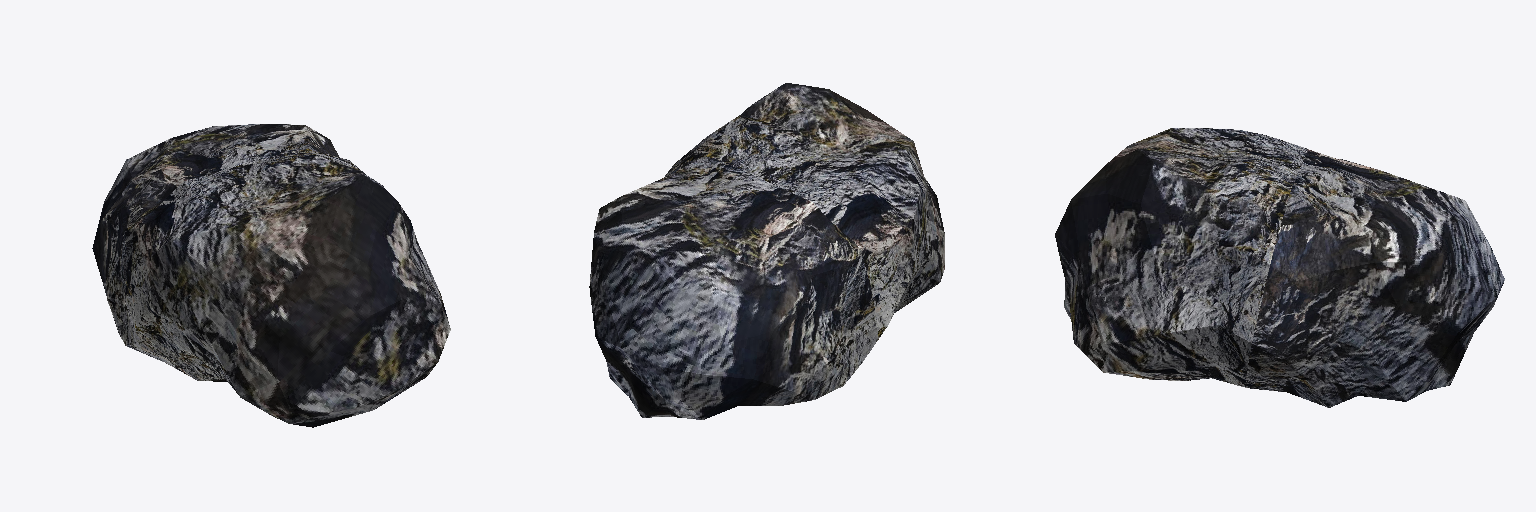
3 views of the same model, side by side, from view 1: azimuth 30°, elevation 25°; view 2: azimuth 150°, elevation 25°; view 3: azimuth 270°, elevation 25° (orthographic).
Visible parts, largest first — view 1: Icosphere; view 2: Icosphere; view 3: Icosphere.
Part boxes in pixels (bbox=[...]): Icosphere: bbox=[92, 124, 450, 427]; Icosphere: bbox=[589, 83, 944, 419]; Icosphere: bbox=[1055, 128, 1504, 407].
Size of the model in its own units: 1.86 by 1.66 by 2.93.
1 materials, 1 textured.